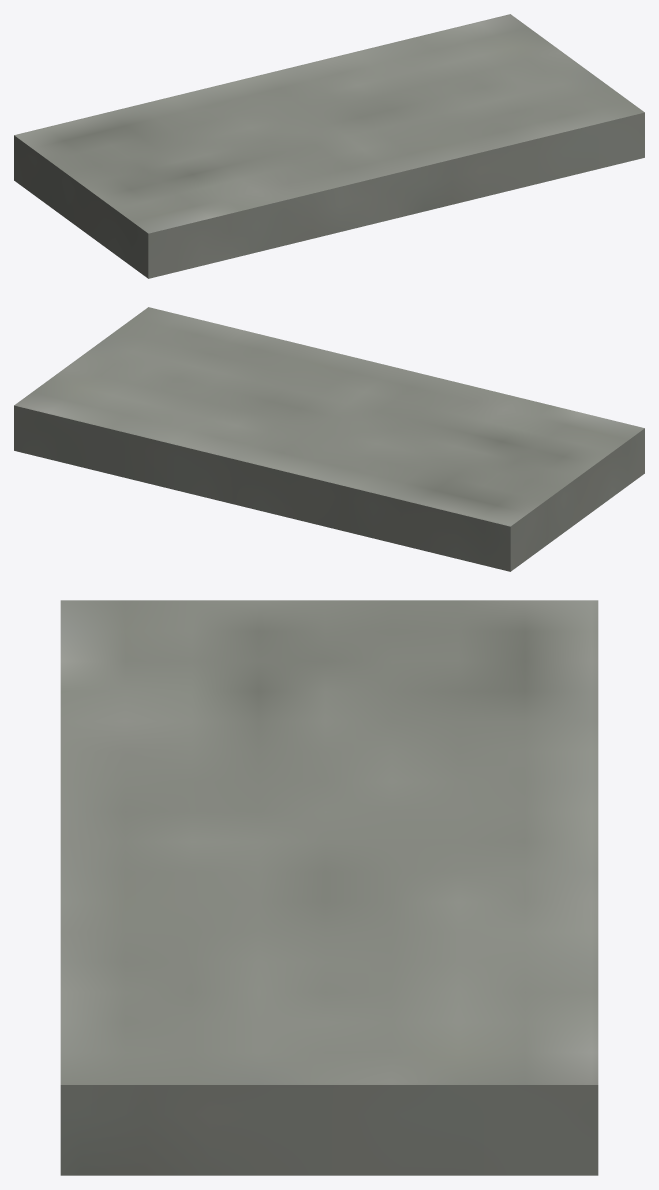
File: FB_ChengZhenJieDao_Dibiao03.FBX
3 renders of one model, top to bottom at view 1: azimuth 30°, elevation 25°; view 2: azimuth 150°, elevation 25°; view 3: azimuth 270°, elevation 25°, orthographic. The views are drawn at different scales.
Visible parts, largest first — view 1: Object04; view 2: Object04; view 3: Object04.
Part boxes in pixels (<box>): Object04: <box>14,14,644,278</box>; Object04: <box>14,307,644,571</box>; Object04: <box>60,600,598,1175</box>.
Size of the model in its own units: 0.9831 by 0.0856 by 0.4612.
